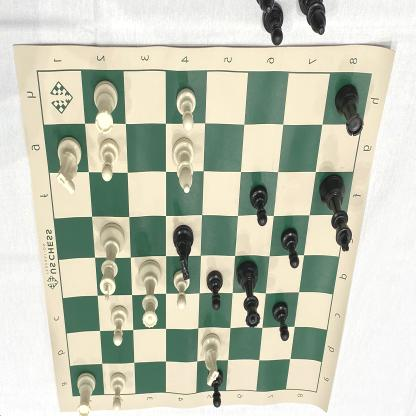black-king: (315, 172, 353, 257)
black-knight: (170, 224, 196, 281)
black-pawn: (249, 184, 272, 230), (278, 224, 300, 272), (268, 300, 292, 344), (204, 268, 224, 312), (207, 368, 226, 410)
black-queen: (235, 258, 262, 331)
black-rook: (332, 83, 364, 140)
white-bishop: (168, 136, 196, 198)
white-king: (96, 222, 128, 304)
white-knight: (51, 136, 82, 198), (196, 333, 224, 387)
white-pawn: (173, 86, 198, 134), (97, 136, 121, 183), (106, 370, 128, 416), (170, 268, 193, 312), (109, 301, 129, 348)
white-queen: (136, 260, 164, 330)
white-rook: (91, 78, 120, 135), (72, 371, 98, 416)
